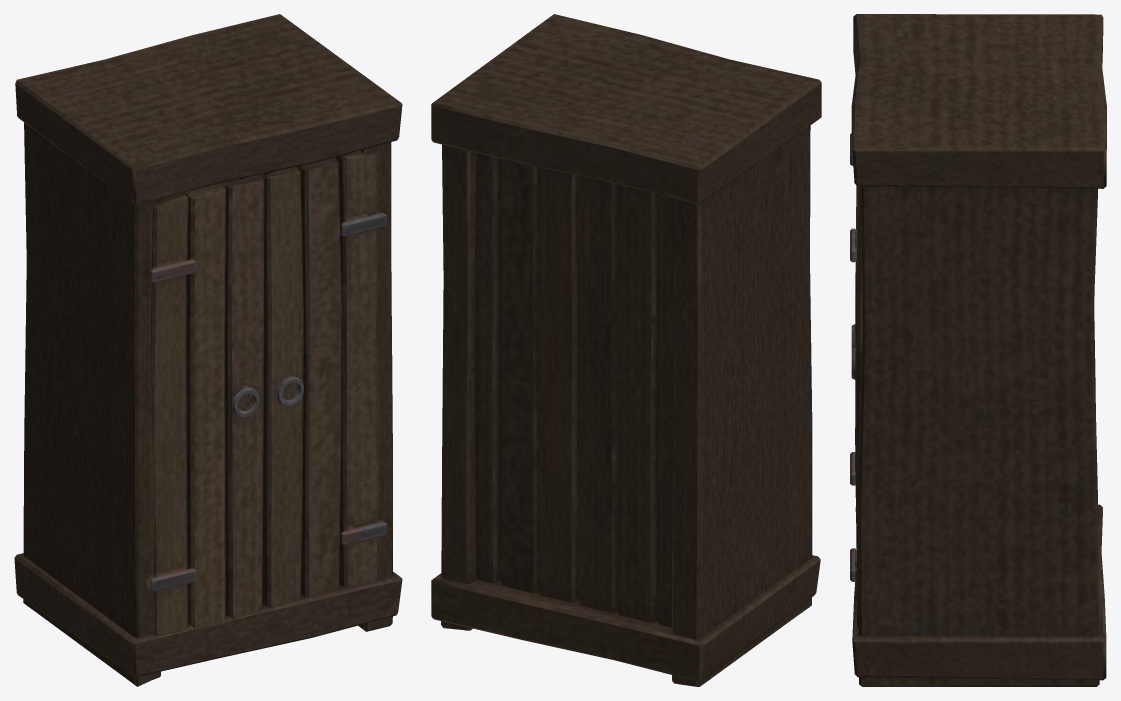
The model's file is wardrobe.glb.
3 views of the same model, side by side, from view 1: azimuth 30°, elevation 25°; view 2: azimuth 150°, elevation 25°; view 3: azimuth 270°, elevation 25° (orthographic). The views are drawn at different scales.
Parts seen in each view (by area): view 1: wardrobe; view 2: wardrobe; view 3: wardrobe.
Part boxes in pixels (box(x1,y1,x2,y2)): wardrobe: box(14, 14, 402, 686); wardrobe: box(431, 14, 821, 686); wardrobe: box(850, 14, 1106, 686).
Bounding box in the file's own units: 0.85 × 1.58 × 0.6771.
1 material, 1 textured.
